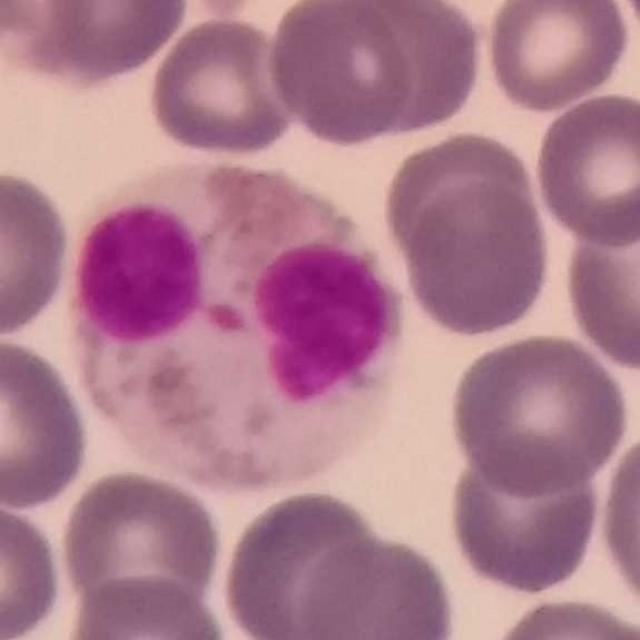Eosinophil: (59, 158, 405, 490)
RBC: (444, 329, 632, 496), (57, 464, 226, 625), (217, 484, 390, 640), (398, 178, 554, 341), (378, 125, 544, 278), (443, 446, 604, 598), (314, 0, 486, 142), (264, 0, 418, 149), (144, 15, 302, 160), (293, 530, 461, 640), (531, 89, 640, 249), (482, 0, 633, 114), (0, 331, 93, 513), (560, 190, 640, 375), (0, 164, 76, 342), (34, 1, 194, 85), (58, 572, 234, 640), (0, 0, 121, 88), (0, 497, 68, 640), (595, 424, 640, 618), (484, 592, 640, 640), (182, 0, 378, 36)
